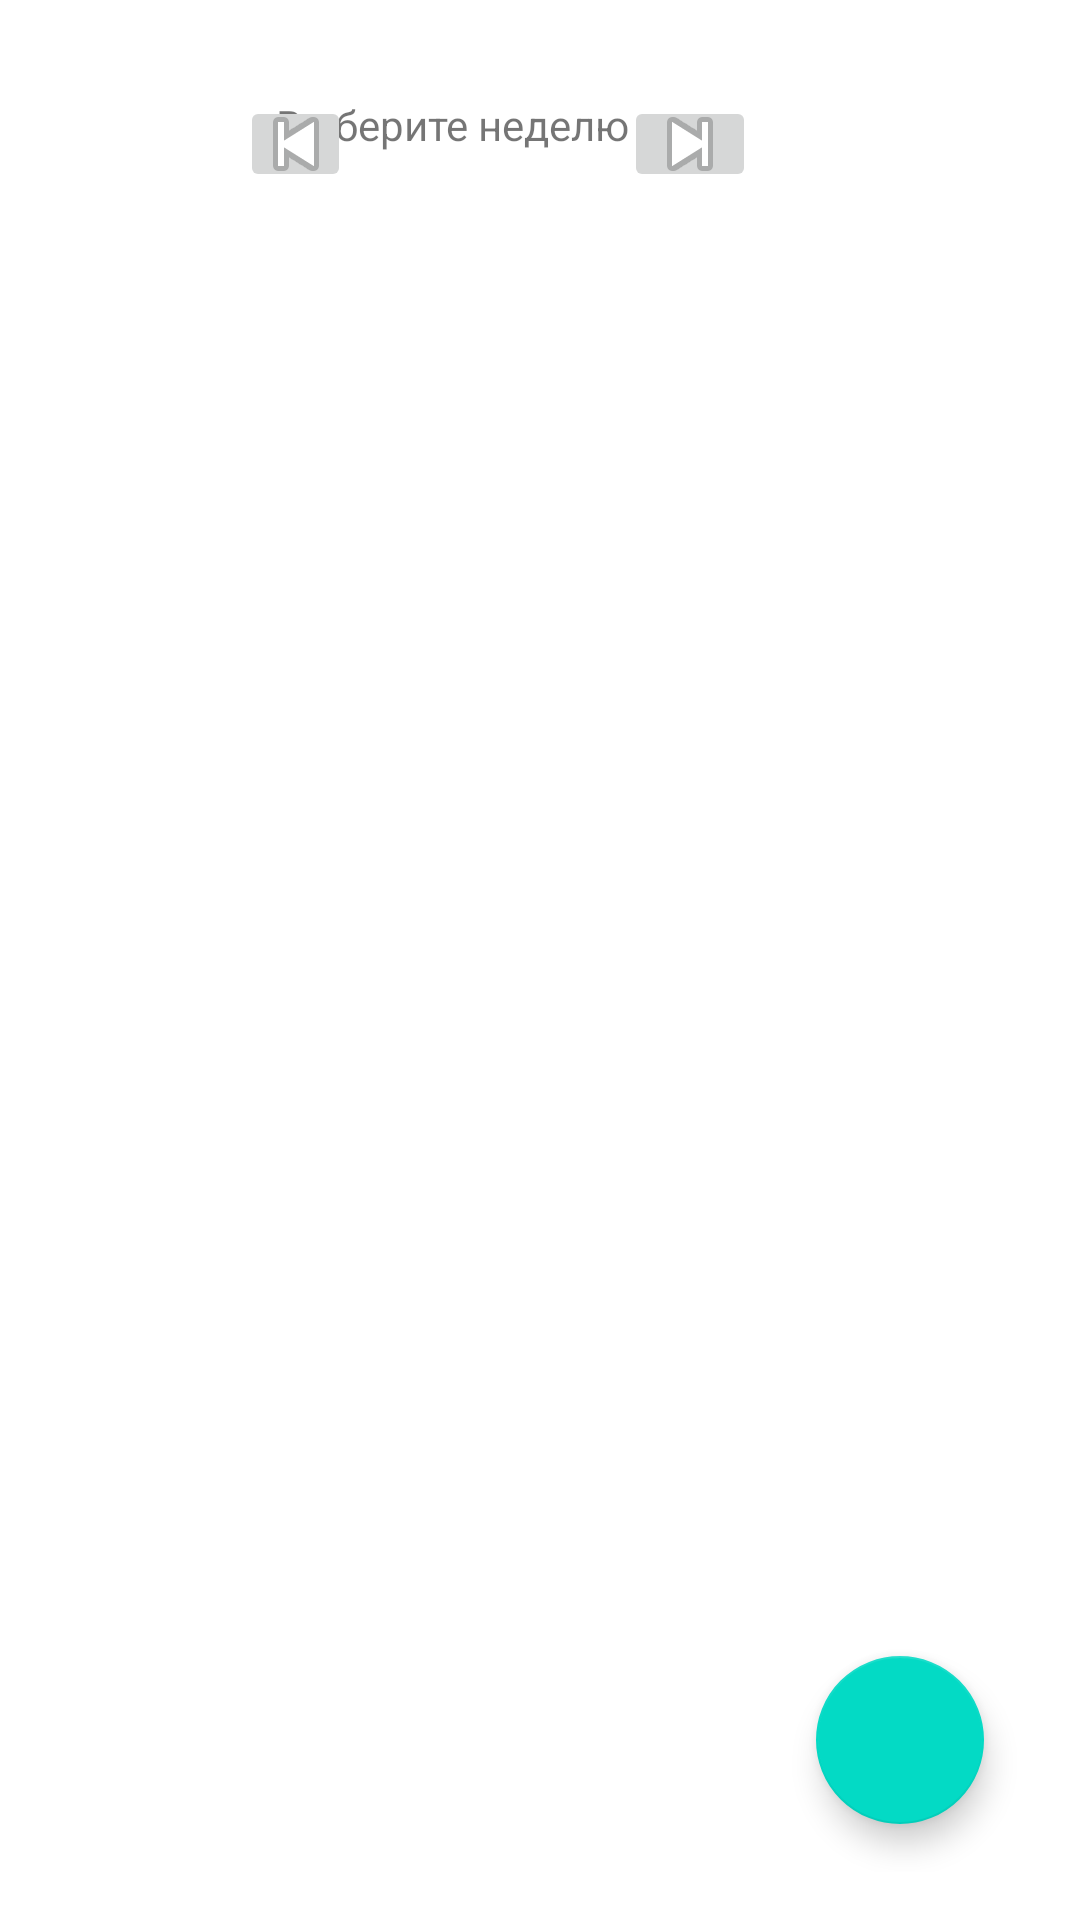

Screen size 1080x1920. Icon name, then its center in pixels as [x,y]:
next: [690,144]
previous: [301,142]
